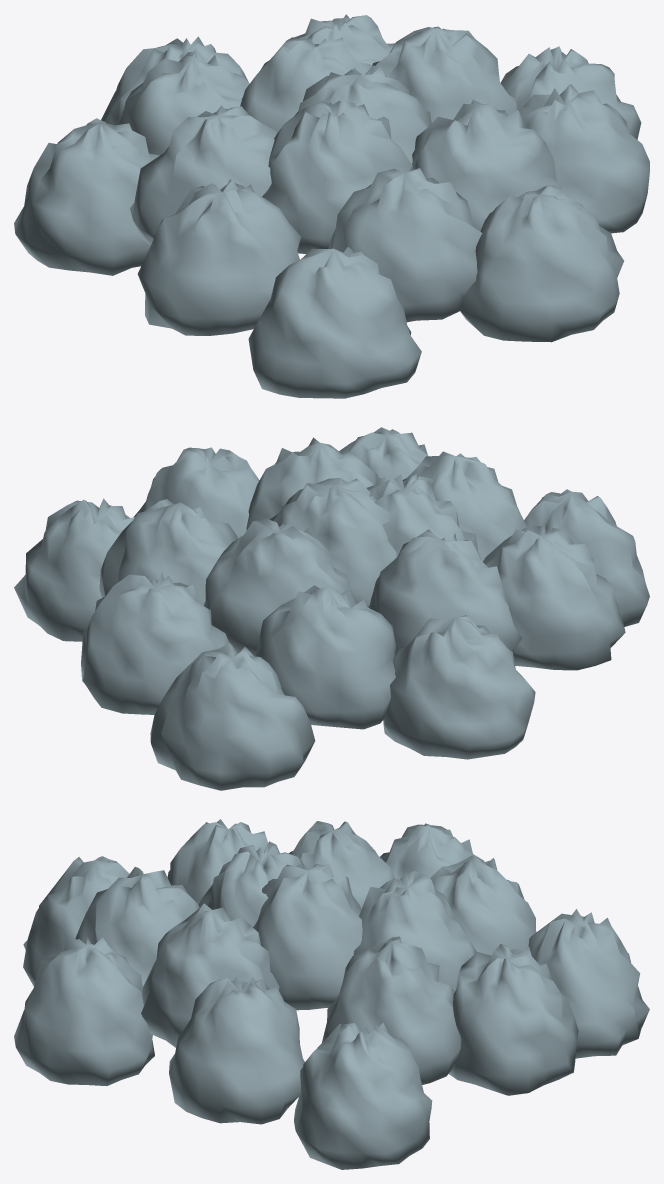
Rendered from underwater-reef-worlds-ballast-stones-a5b02122__7068.glb.
3 renders of one model, top to bottom at view 1: azimuth 30°, elevation 25°; view 2: azimuth 150°, elevation 25°; view 3: azimuth 270°, elevation 25°, orthographic. The views are drawn at different scales.
Parts seen in each view (by area): view 1: ballast-stones; view 2: ballast-stones; view 3: ballast-stones.
Part boxes in pixels (box(x1,y1,x2,y2)): ballast-stones: box(14, 14, 649, 398); ballast-stones: box(14, 427, 649, 790); ballast-stones: box(14, 819, 649, 1169).
Bounding box in the file's own units: 1.33 × 0.4109 × 1.37.
